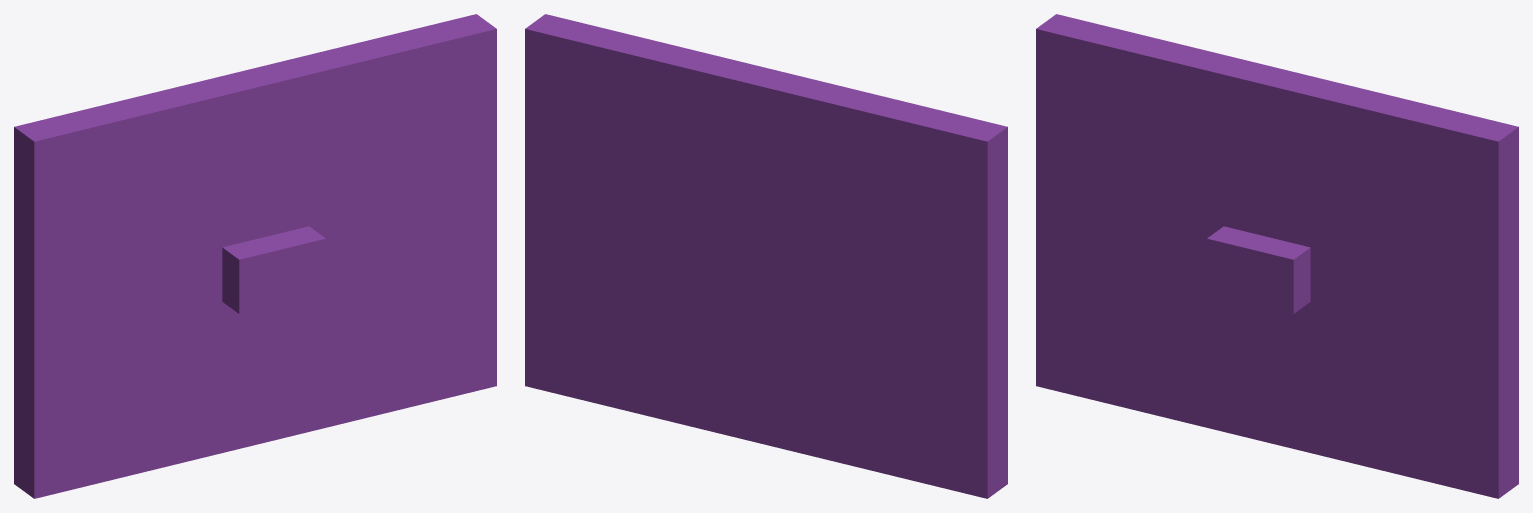
Rendered from APDS-9960_Gesture_Sensor.glb.
The picture shows the model from 3 angles, left to right: view 1: azimuth 30°, elevation 25°; view 2: azimuth 150°, elevation 25°; view 3: azimuth 330°, elevation 25°; orthographic projection.
Visible parts, largest first — view 1: APDS-9960_Gesture_Sensor; view 2: APDS-9960_Gesture_Sensor; view 3: APDS-9960_Gesture_Sensor.
Boxes of the visible parts, x1,y1,x2,y2 form: APDS-9960_Gesture_Sensor: (14, 14, 496, 498); APDS-9960_Gesture_Sensor: (525, 14, 1007, 498); APDS-9960_Gesture_Sensor: (1036, 14, 1518, 498).
Bounding box in the file's own units: 21 × 15.5 × 2.94.
